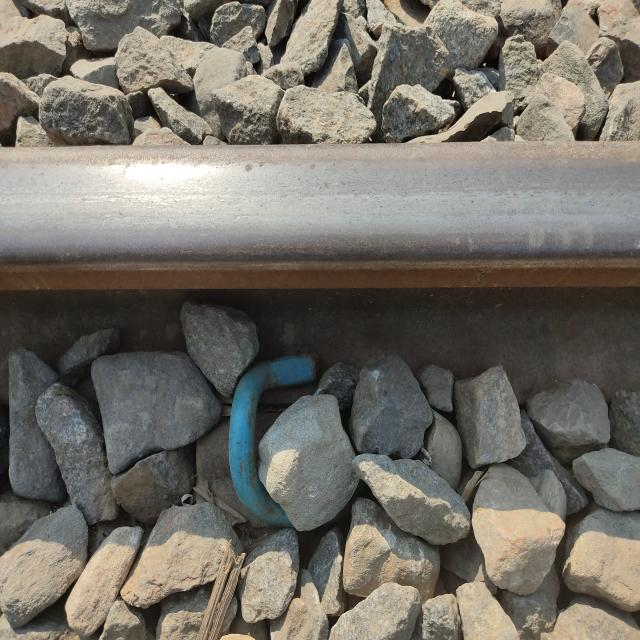No Fault: (11, 143, 627, 267)
